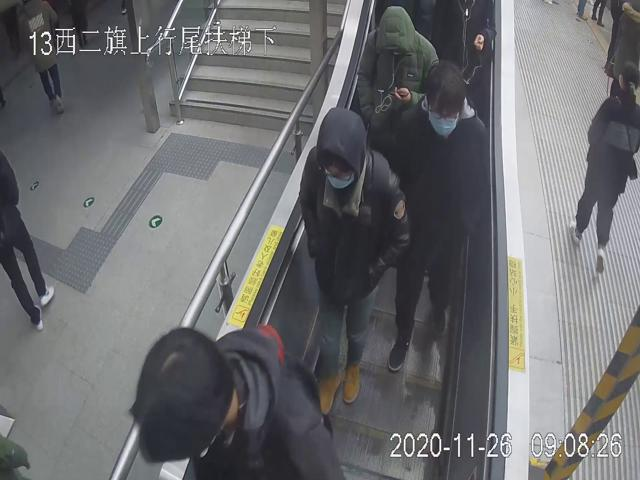person: (295, 107, 412, 414), (385, 61, 493, 376), (566, 60, 640, 276), (353, 0, 440, 165)
